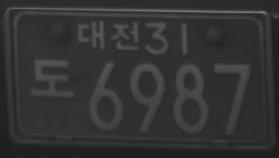1: (173, 21, 195, 56)
3: (142, 20, 170, 56)
6: (86, 60, 125, 133)
7: (212, 61, 252, 136)
8: (171, 61, 210, 135)
9: (128, 61, 166, 134)
대전_O: (76, 19, 141, 52)
도: (28, 58, 76, 100)
